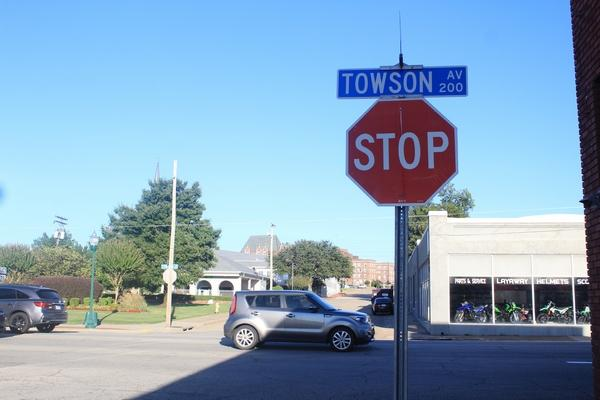stop: (347, 99, 460, 209), (347, 125, 460, 209), (347, 97, 460, 170), (348, 99, 422, 208), (348, 99, 413, 209)
